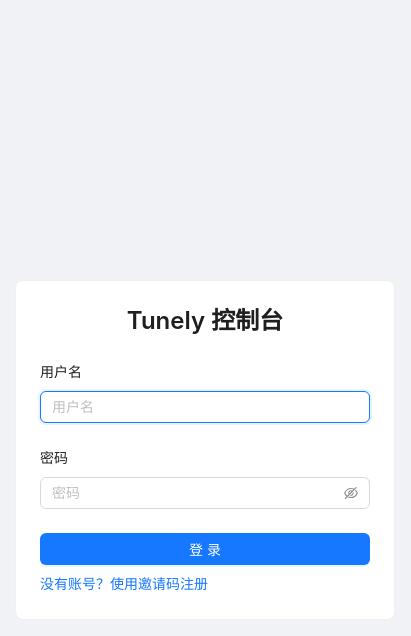
it: Login › 登录失败（401）：提示错误且不跳转
The width and height of the screenshot is (411, 636).
Type "alice" into the field labelled "用户名" at x=205, y=407, box [40,391,370,423]
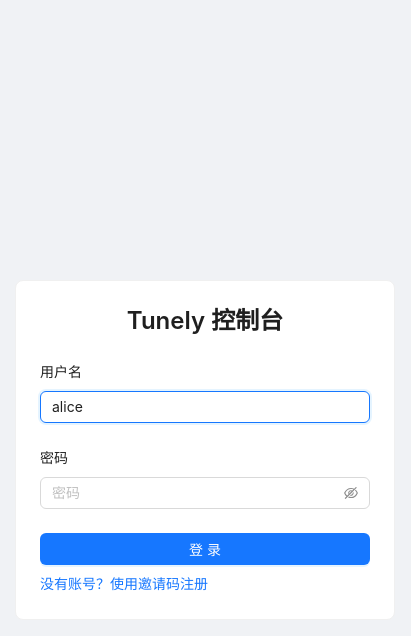
Type "wrong-password" into the password field labelled "密码" at x=196, y=493, box [52,482,340,504]
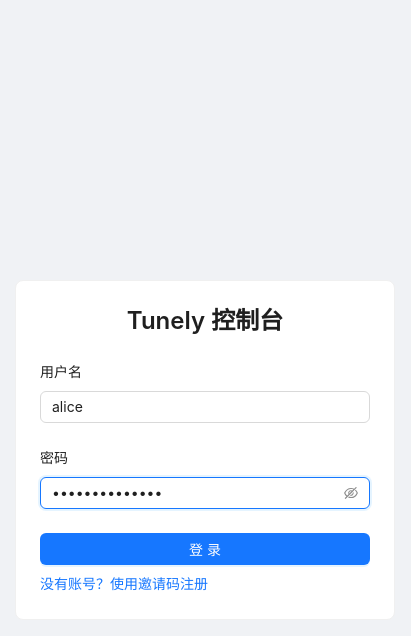
Click the button "登 录" at x=205, y=549, box [40,533,370,565]
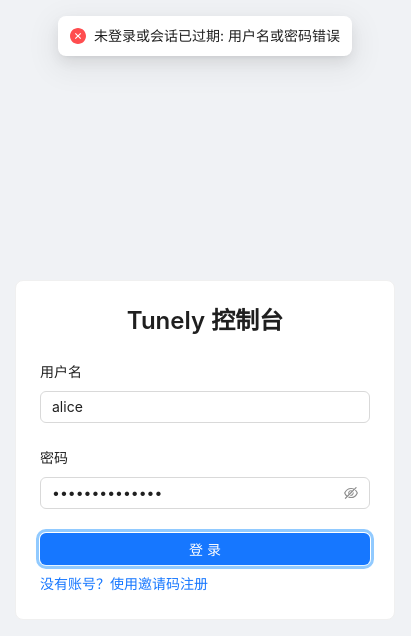
expect the text "未登录或会话已过期: 用户名或密码错误" is shown: met, box [94,25,340,47]
